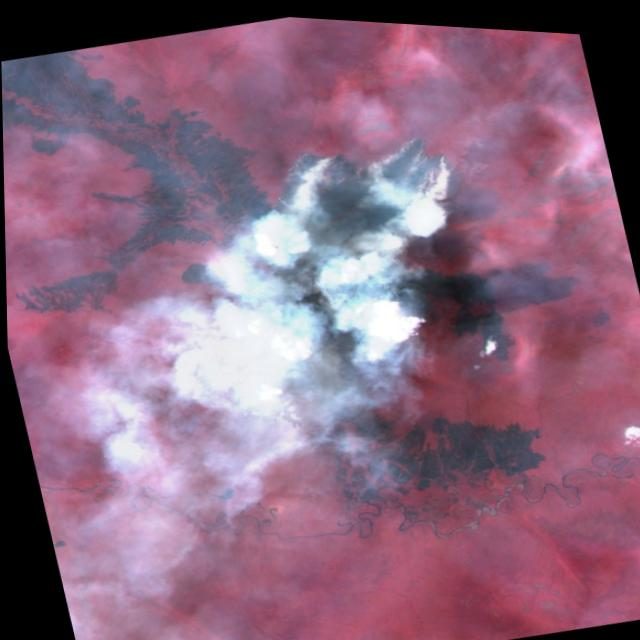fire: (255, 103, 478, 272)
